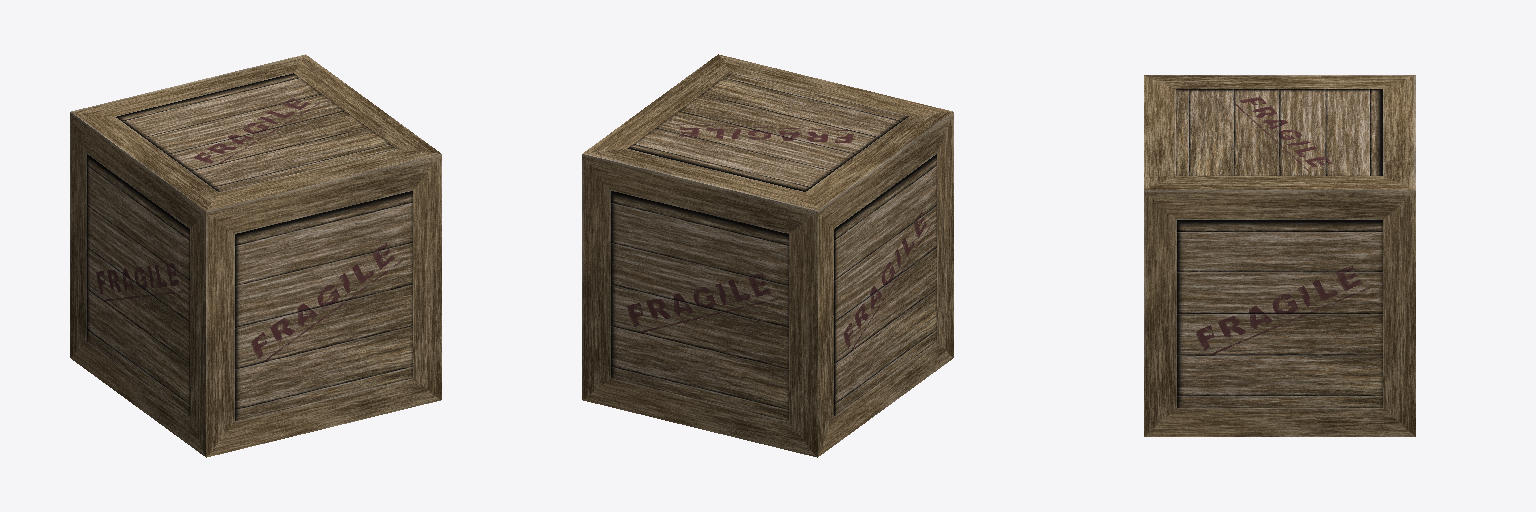
3 renders of one model, left to right at view 1: azimuth 30°, elevation 25°; view 2: azimuth 150°, elevation 25°; view 3: azimuth 270°, elevation 25°, orthographic.
Visible parts, largest first — view 1: Crate; view 2: Crate; view 3: Crate.
Boxes of the visible parts, box(x1,y1,x2,y2) form: Crate: box(70, 54, 441, 457); Crate: box(582, 54, 953, 457); Crate: box(1144, 75, 1415, 436).
Size of the model in its own units: 2 by 2 by 2.
1 materials, 1 textured.